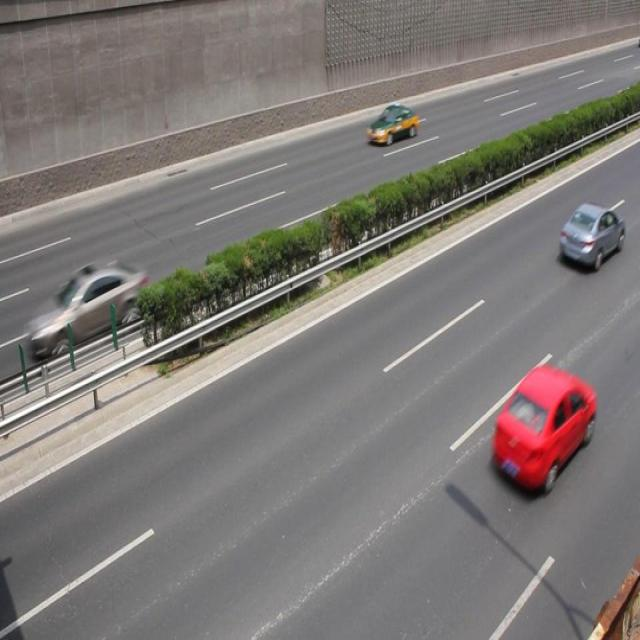car: (490, 368, 595, 494), (38, 258, 150, 357), (558, 202, 620, 272), (366, 104, 419, 146)
